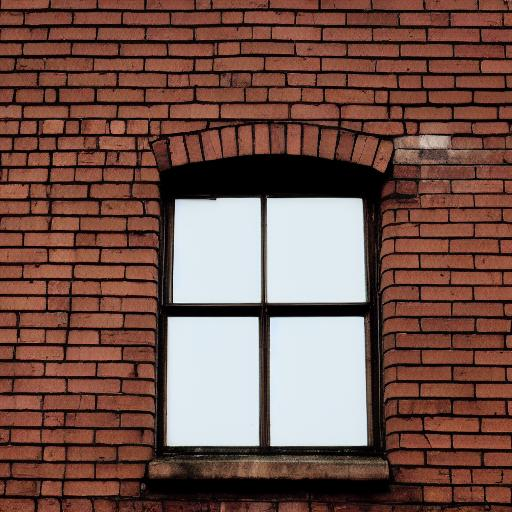Window: (142, 120, 398, 489)
